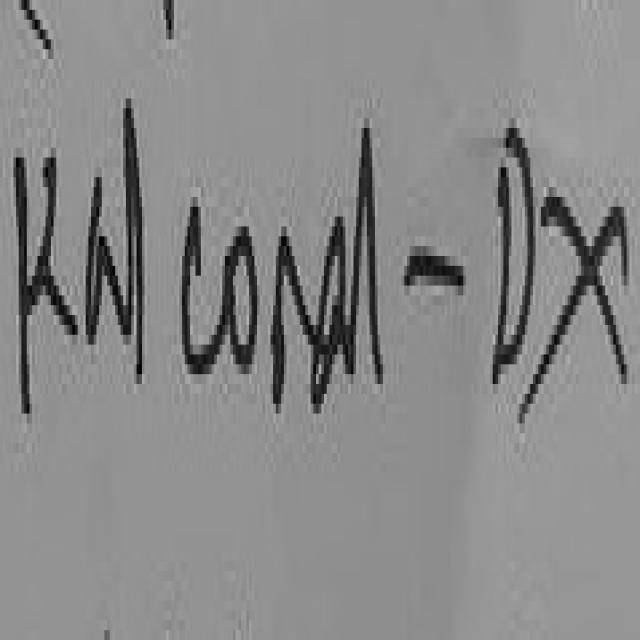D: (495, 128, 536, 379)
K: (13, 158, 78, 409)
X: (522, 197, 629, 423)
a: (86, 177, 131, 345), (313, 217, 351, 414)
c: (182, 207, 225, 374)
l: (351, 128, 383, 384), (123, 98, 142, 369)
o: (228, 226, 260, 374)
r: (273, 226, 316, 414)
